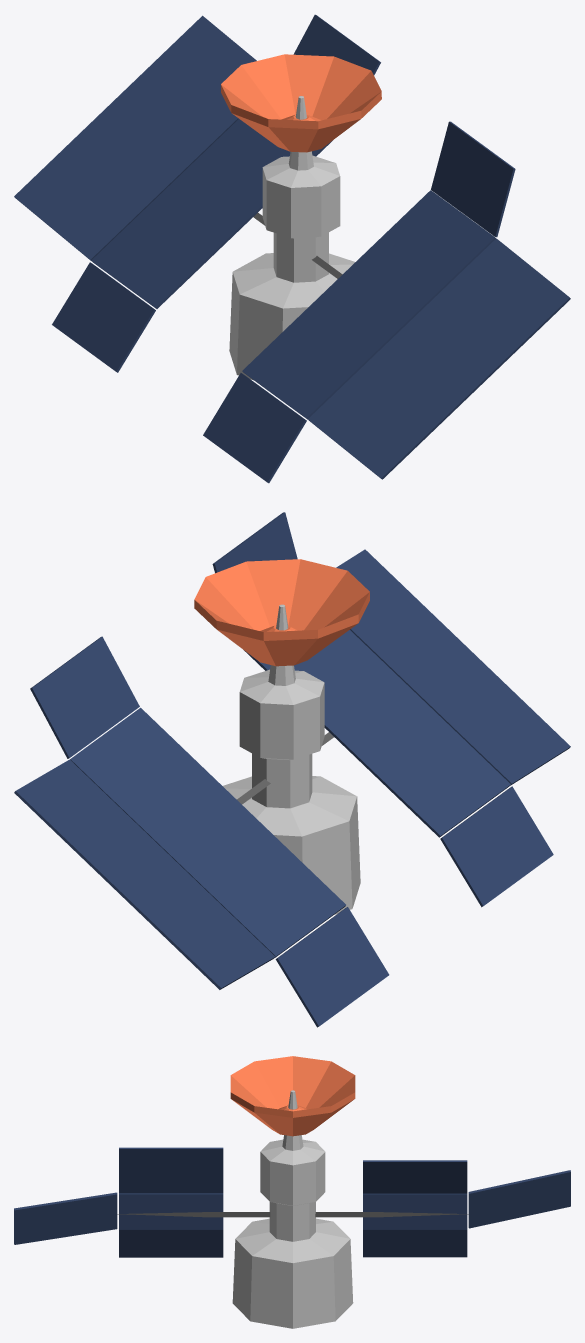
File: satellite.fbx
The picture shows the model from 3 angles, top to bottom: view 1: azimuth 30°, elevation 25°; view 2: azimuth 150°, elevation 25°; view 3: azimuth 270°, elevation 25°; orthographic projection. The views are drawn at different scales.
Visible parts, largest first — view 1: satellite_solar_battery1, satellite_solar_battery5, satellite_solar_battery4, satellite_solar_battery8, satellite, satellite_part, satellite_solar_battery6, satellite_solar_battery2, satellite_solar_battery3, satellite_solar_battery7; view 2: satellite_solar_battery8, satellite_solar_battery4, satellite_solar_battery5, satellite, satellite_solar_battery1, satellite_part, satellite_solar_battery6, satellite_solar_battery2, satellite_solar_battery7, satellite_solar_battery3; view 3: satellite, satellite_part, satellite_solar_battery3, satellite_solar_battery1, satellite_solar_battery5, satellite_solar_battery7, satellite_solar_battery8, satellite_solar_battery4, satellite_solar_battery2, satellite_solar_battery6, satellite_solar_battery.
Boxes of the visible parts, <box> form: satellite_solar_battery1: <box>308,238,570,479</box>; satellite_solar_battery5: <box>14,15,256,260</box>; satellite_solar_battery4: <box>242,190,495,419</box>; satellite_solar_battery8: <box>91,119,332,308</box>; satellite: <box>229,96,355,380</box>; satellite_part: <box>221,54,381,152</box>; satellite_solar_battery6: <box>52,262,155,372</box>; satellite_solar_battery2: <box>203,373,306,483</box>; satellite_solar_battery3: <box>431,121,515,237</box>; satellite_solar_battery7: <box>293,14,380,75</box>; satellite_solar_battery8: <box>70,707,345,957</box>; satellite_solar_battery4: <box>244,630,510,837</box>; satellite_solar_battery5: <box>14,759,275,989</box>; satellite: <box>223,604,360,914</box>; satellite_solar_battery1: <box>336,549,570,785</box>; satellite_part: <box>194,559,369,666</box>; satellite_solar_battery6: <box>275,907,389,1027</box>; satellite_solar_battery2: <box>440,786,553,907</box>; satellite_solar_battery7: <box>30,636,139,758</box>; satellite_solar_battery3: <box>212,512,297,573</box>; satellite: <box>232,1090,353,1328</box>; satellite_part: <box>230,1056,355,1136</box>; satellite_solar_battery3: <box>119,1147,223,1193</box>; satellite_solar_battery1: <box>14,1192,117,1244</box>; satellite_solar_battery5: <box>468,1170,570,1228</box>; satellite_solar_battery7: <box>363,1160,467,1193</box>; satellite_solar_battery8: <box>363,1193,467,1228</box>; satellite_solar_battery4: <box>119,1193,223,1228</box>; satellite_solar_battery2: <box>119,1229,223,1257</box>; satellite_solar_battery6: <box>363,1229,467,1257</box>; satellite_solar_battery: <box>117,1212,468,1217</box>.
Size of the model in its own units: 255 by 260 by 574.
